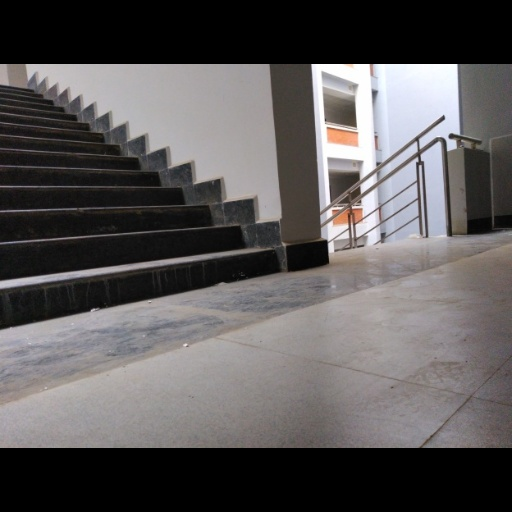Stairs: (0, 86, 278, 327)
